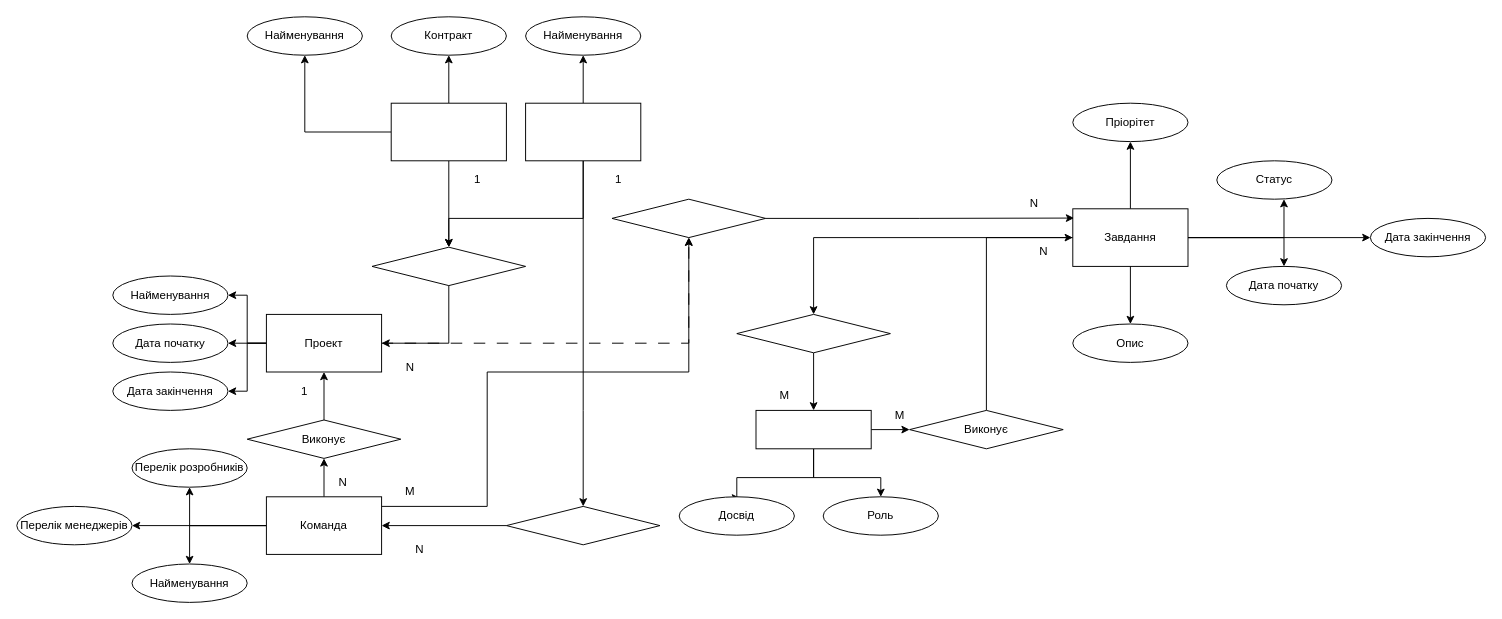
Some shapes in this 1502 by 619 pixel diagram are drawn without their labels. The centre of each missing label's shape, as x and y in pixels:
"Директор(своя сторона)" goes at point 583,131.
"Збирає" goes at point 582,525.
"Клієнт" goes at point 448,131.
"Отримує" goes at point 813,333.
"Розробник" goes at point 813,429.
"Створює" goes at point 688,218.
"Формує" goes at point 448,266.
